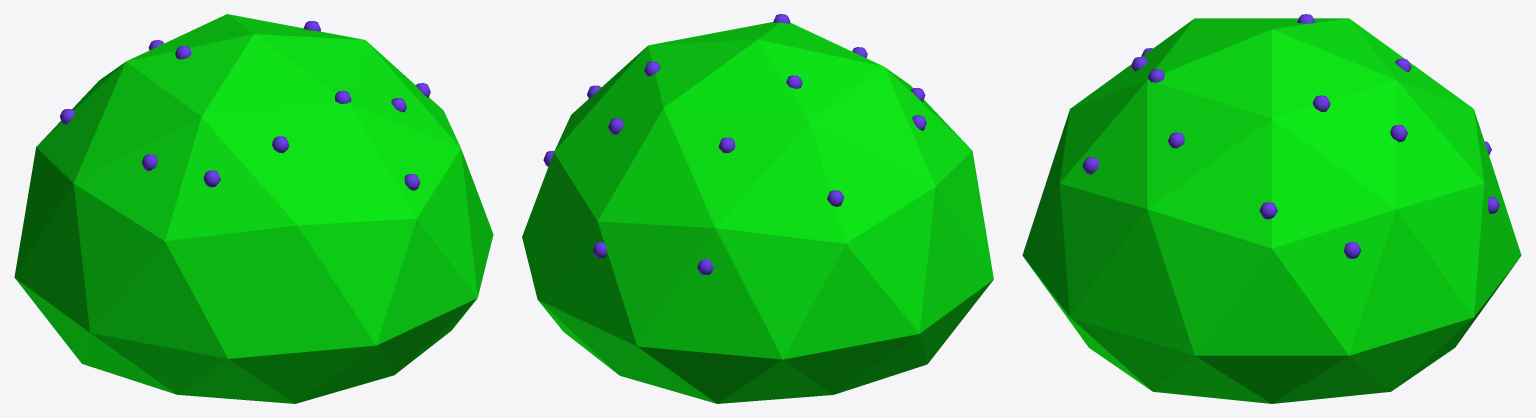
File: BushWithBerries.fbx
The picture shows the model from 3 angles, left to right: view 1: azimuth 30°, elevation 25°; view 2: azimuth 150°, elevation 25°; view 3: azimuth 270°, elevation 25°; orthographic projection. The views are drawn at different scales.
Parts seen in each view (by area): view 1: Bush, Berries; view 2: Bush, Berries; view 3: Bush, Berries.
Part boxes in pixels (<box>): Bush: <box>14,14,493,403</box>; Berries: <box>60,21,430,190</box>; Bush: <box>522,22,993,403</box>; Berries: <box>543,14,926,274</box>; Bush: <box>1022,18,1521,403</box>; Berries: <box>1082,14,1499,258</box>.
Bounding box in the file's own units: 230 × 157 × 242.
